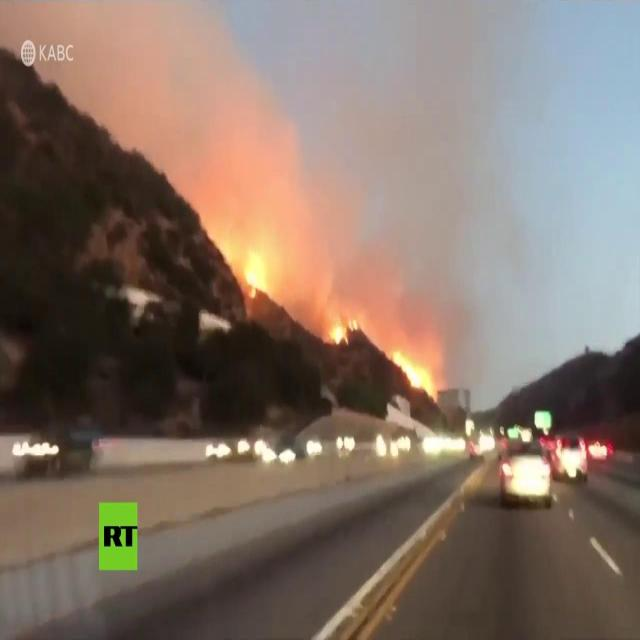Fire: (393, 349, 433, 396), (327, 312, 359, 348), (244, 250, 270, 292)
